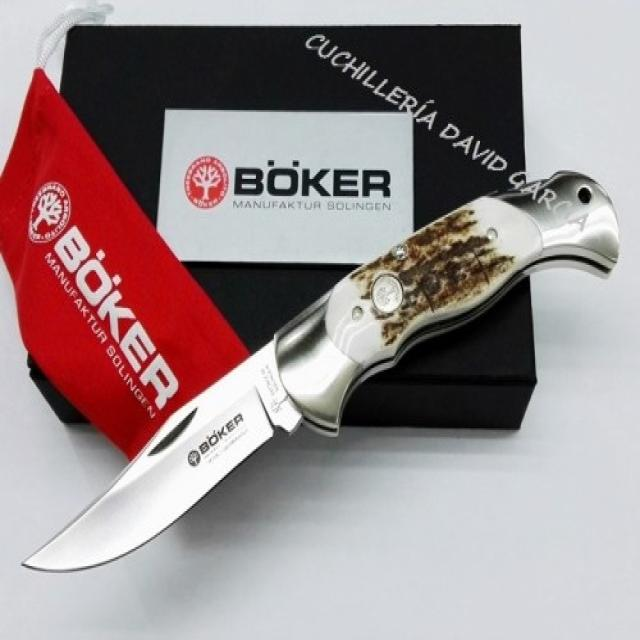knife: (20, 170, 623, 584)
